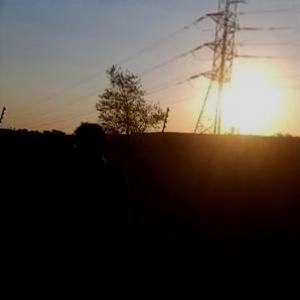follow: (52, 111, 140, 299)
